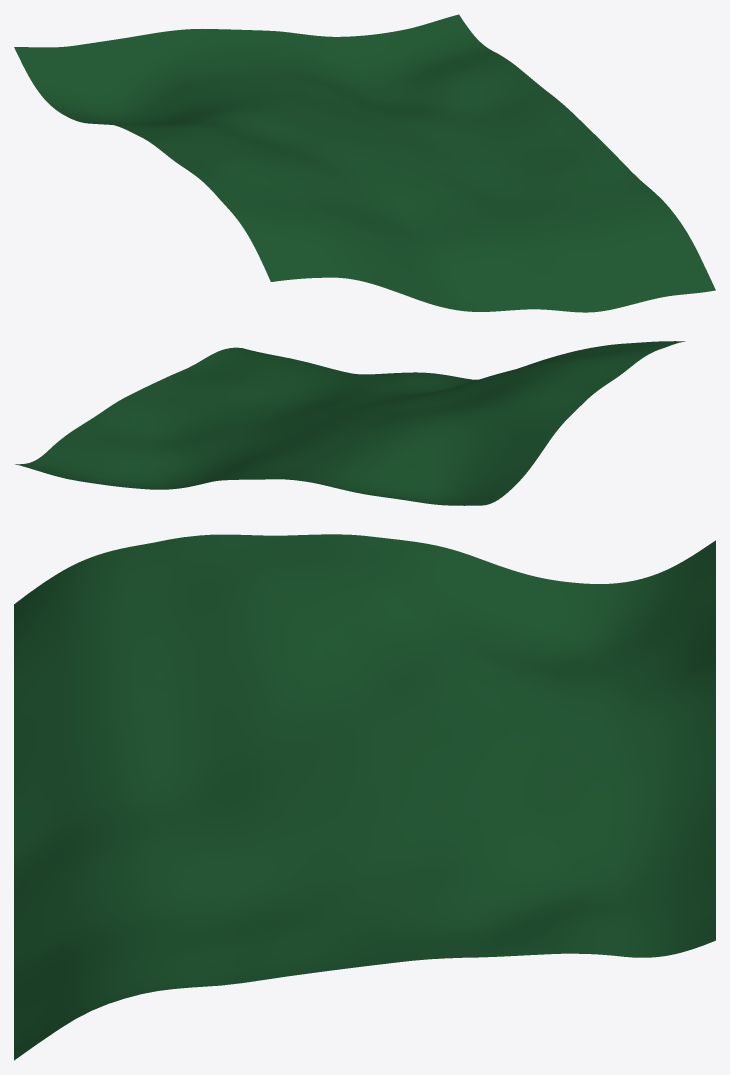
File: payo_land_xm3_y0_lod1.glb
3 views of the same model, one above another, from view 1: azimuth 30°, elevation 25°; view 2: azimuth 150°, elevation 25°; view 3: azimuth 270°, elevation 25° (orthographic). The views are drawn at different scales.
Visible parts, largest first — view 1: payo_land_xm3_y0; view 2: payo_land_xm3_y0; view 3: payo_land_xm3_y0.
Part boxes in pixels (box(x1,y1,x2,y2)): payo_land_xm3_y0: box(14, 14, 715, 312); payo_land_xm3_y0: box(15, 341, 685, 505); payo_land_xm3_y0: box(14, 534, 715, 1060).
Bounding box in the file's own units: 255 × 92.08 × 255.
